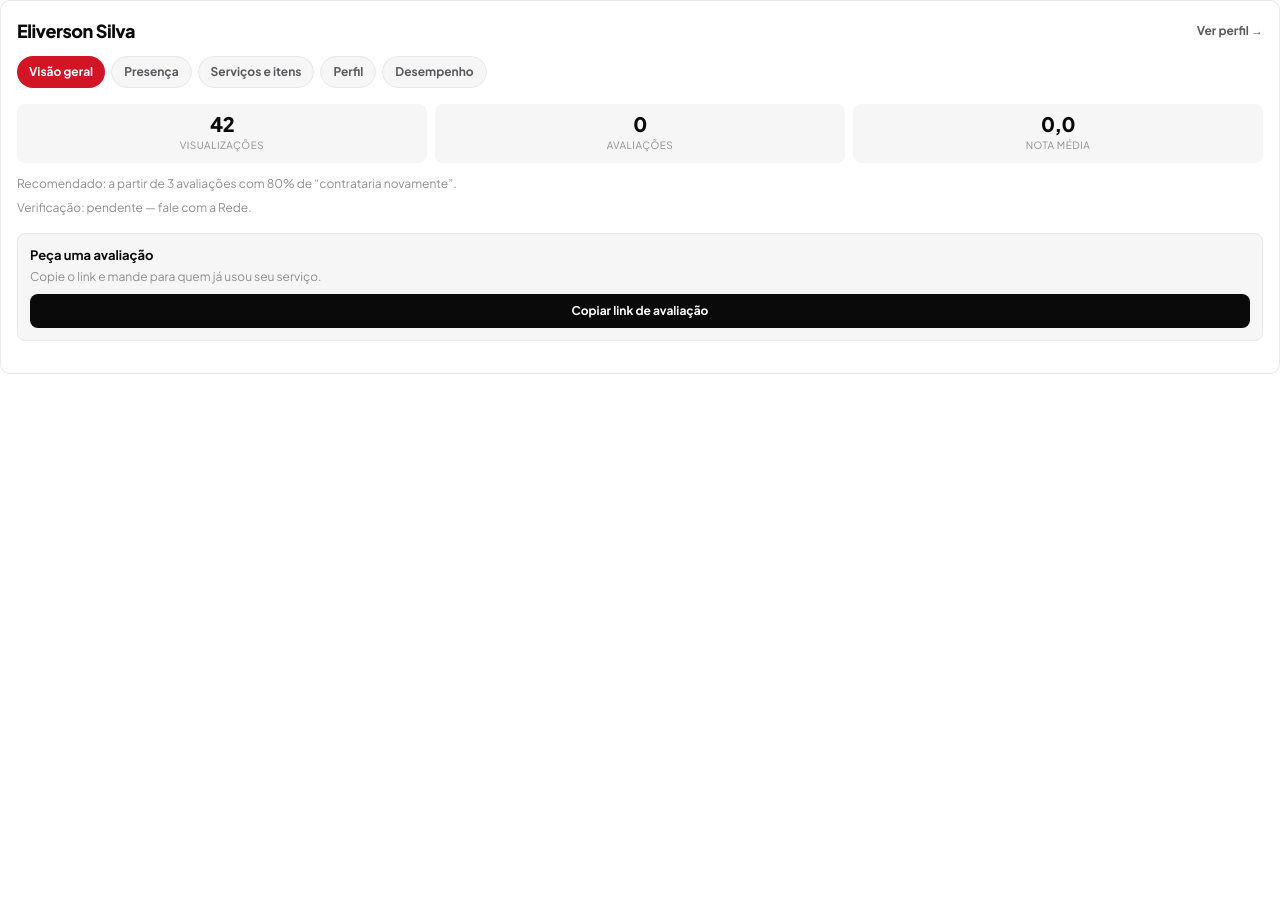
Test case: PainelClient — itens dentro do serviço › fecha o editor e volta à lista ao clicar em Voltar (←)
Step 1. Click the button "Serviços e itens" → (256, 72), box [198,56,314,88]
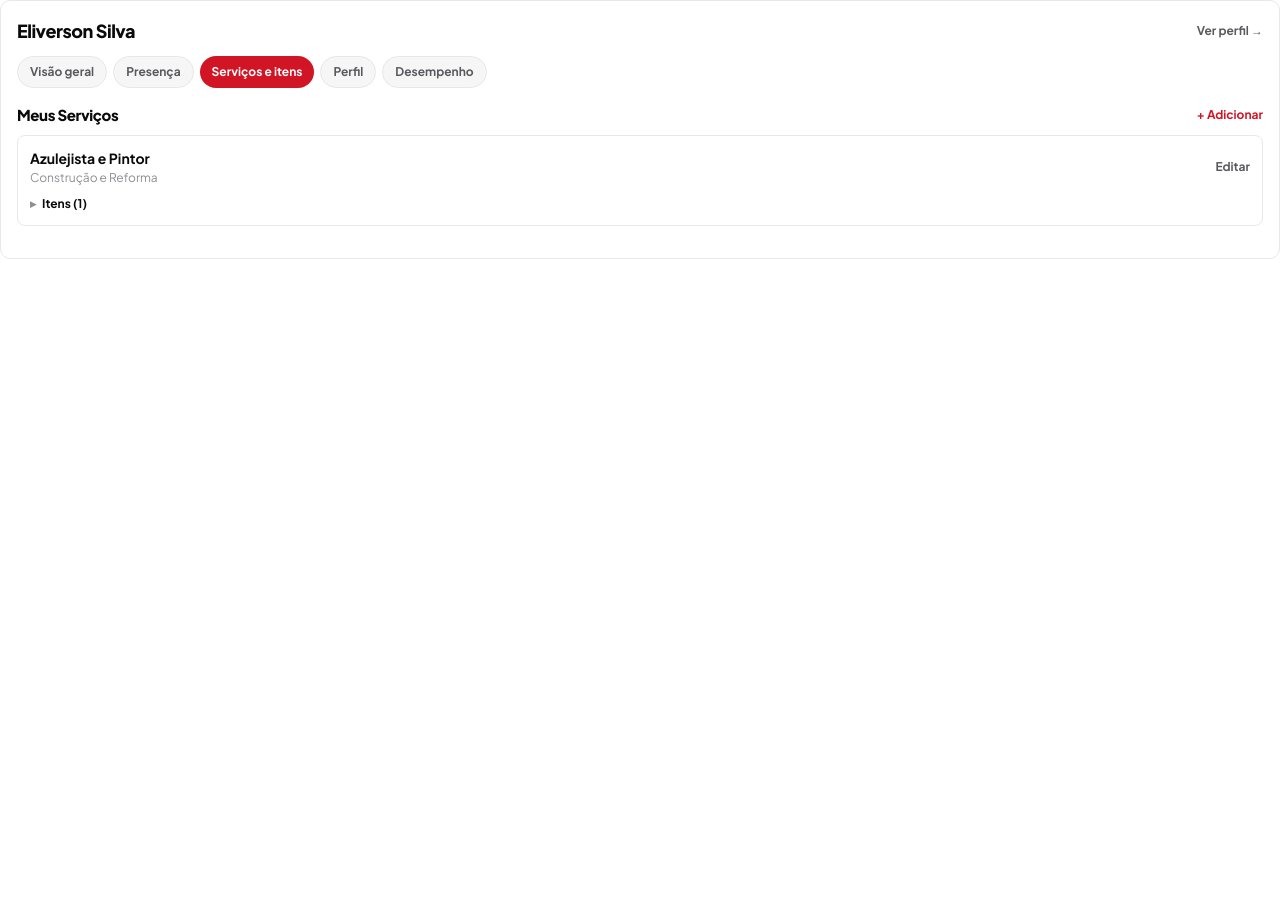
Step 2. Click the button "▸ Itens (1)" → (58, 204), box [30,194,87,212]
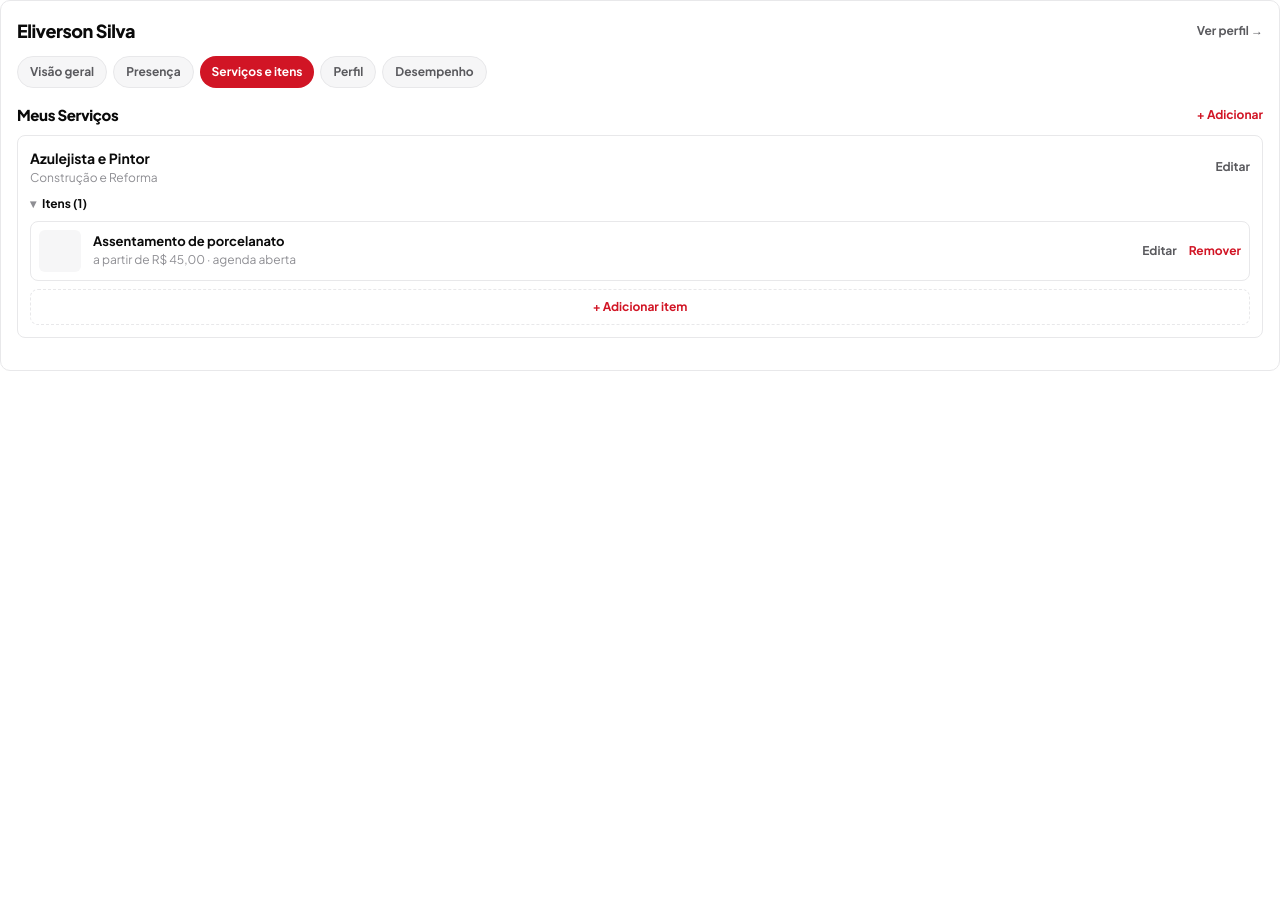
Step 3. Click the button "+ Adicionar item" → (640, 306), box [30,288,1250,324]
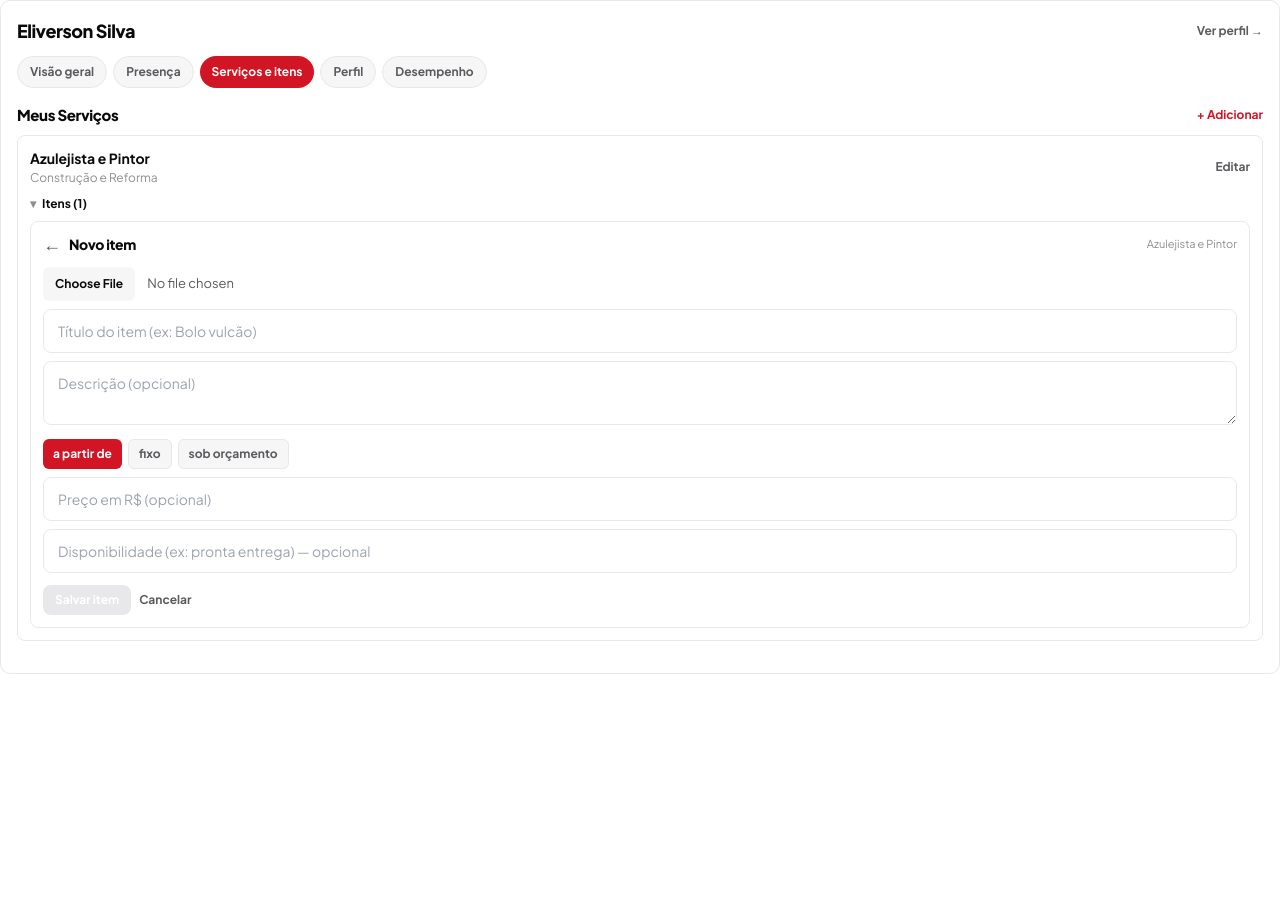
Expected: the heading "Novo item" is shown, [69,234,136,254]
Step 4. Click the button named "Voltar" → (52, 244), box [43,235,61,253]
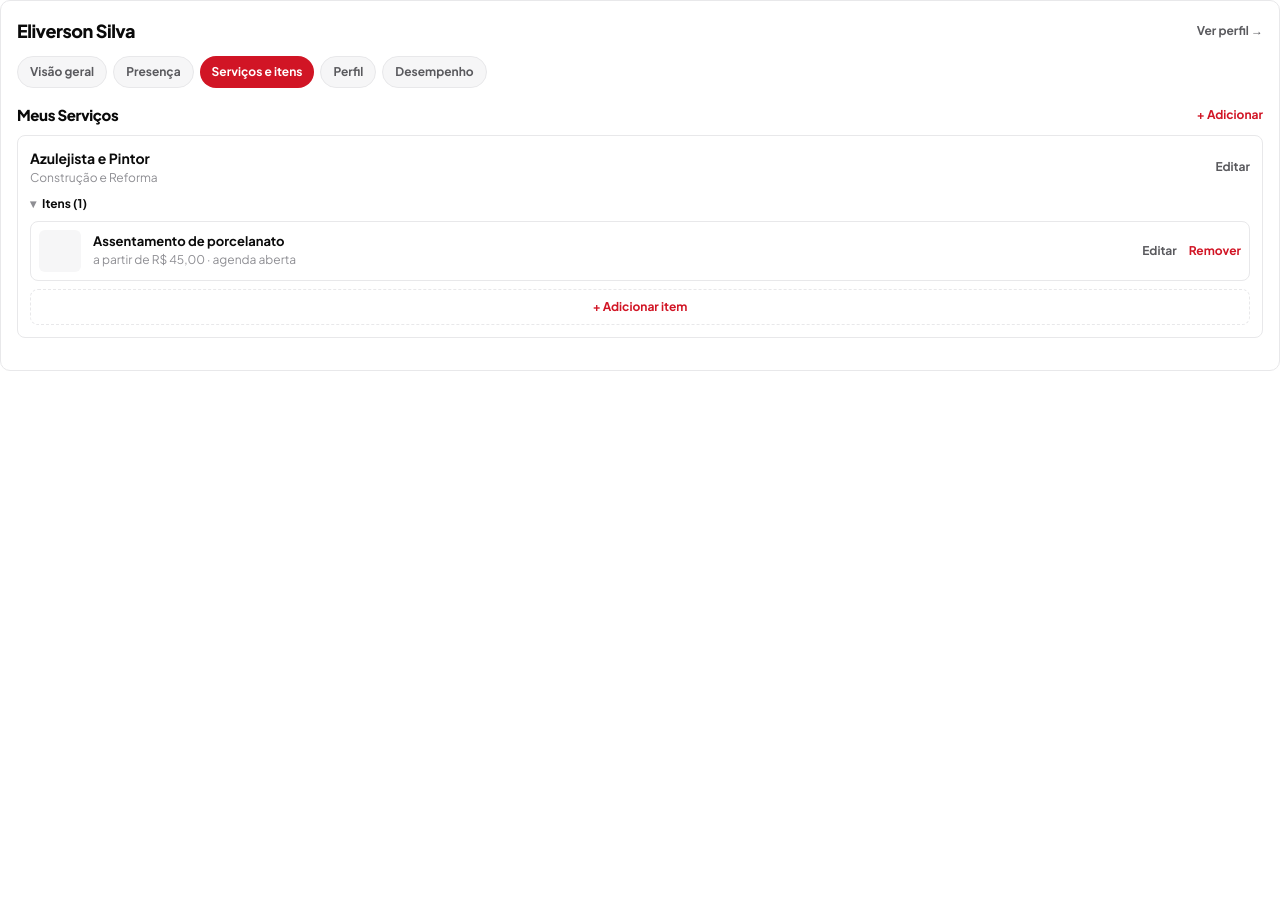
Expected: the heading "Novo item" is gone
Expected: the text "Assentamento de porcelanato" is shown, [93,233,285,249]
